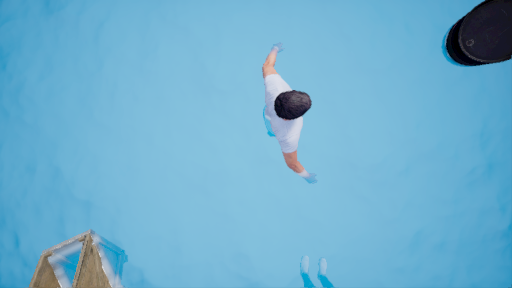person: (255, 45, 326, 178)
